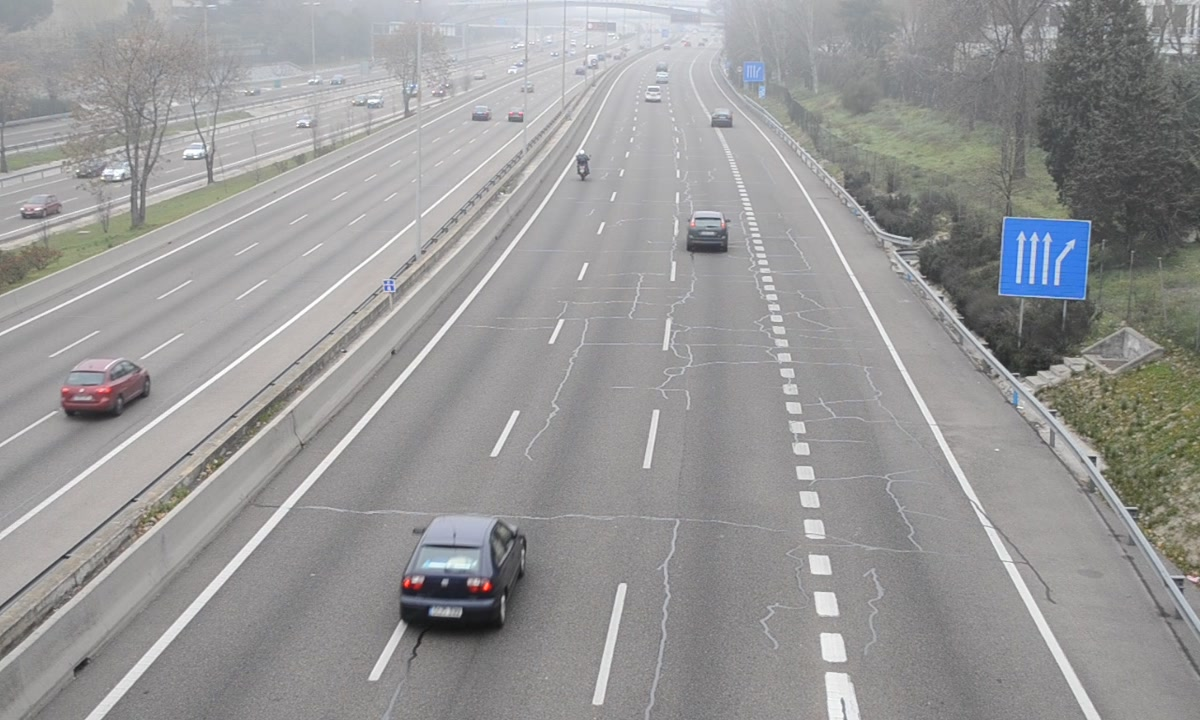car: (398, 515, 528, 633), (687, 210, 728, 252), (711, 109, 732, 128)
motorcycle: (575, 148, 592, 183)
